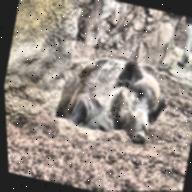boar: (42, 29, 181, 166)
